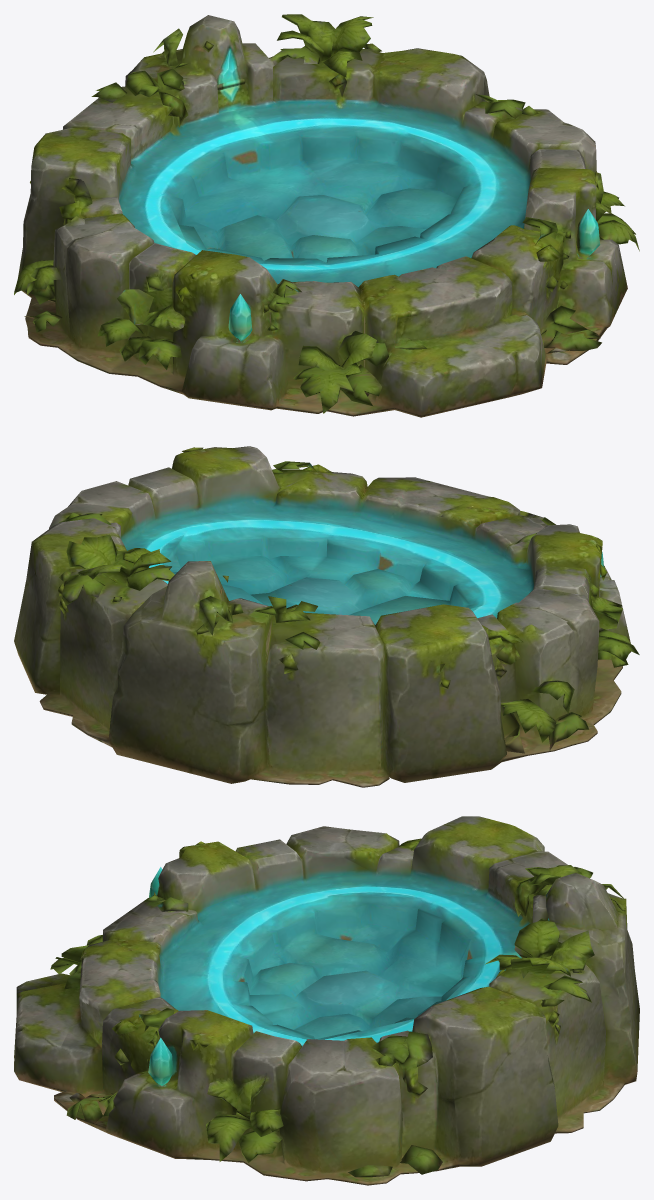
File: spring.fbx
3 renders of one model, top to bottom at view 1: azimuth 30°, elevation 25°; view 2: azimuth 150°, elevation 25°; view 3: azimuth 270°, elevation 25°, orthographic.
Visible parts, largest first — view 1: spring; view 2: spring; view 3: spring.
Boxes of the visible parts, box(x1,y1,x2,y2) form: spring: box(14, 14, 639, 417); spring: box(14, 446, 639, 787); spring: box(14, 816, 639, 1185).
Bounding box in the file's own units: 2.2 × 0.6673 × 2.15.
Materials: 1 (1 with a texture image).
